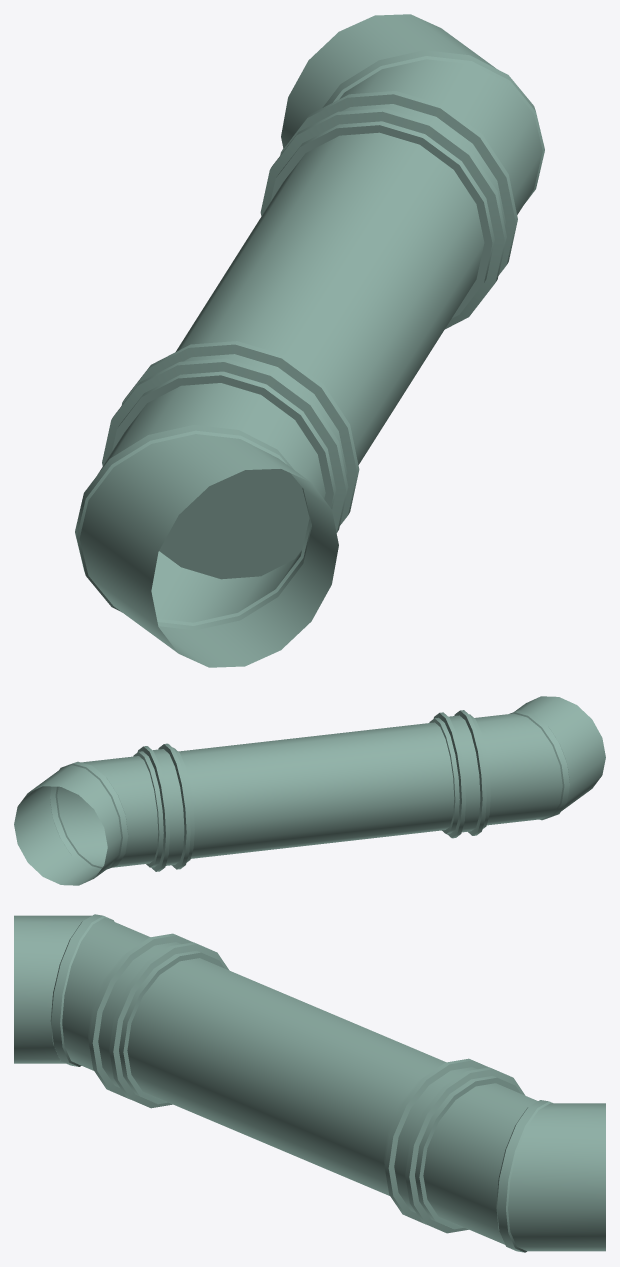
Rendered from PipeComplexLarge_B_14.fbx.
3 views of the same model, one above another, from view 1: azimuth 30°, elevation 25°; view 2: azimuth 150°, elevation 25°; view 3: azimuth 270°, elevation 25° (orthographic). The views are drawn at different scales.
Visible parts, largest first — view 1: PipeComplexLarge_B_14.001; view 2: PipeComplexLarge_B_14.001; view 3: PipeComplexLarge_B_14.001.
Part boxes in pixels (box(x1,y1,x2,y2)): PipeComplexLarge_B_14.001: box(75, 14, 544, 667); PipeComplexLarge_B_14.001: box(14, 696, 605, 885); PipeComplexLarge_B_14.001: box(14, 914, 605, 1252).
Size of the model in its own units: 0.803 by 0.2334 by 0.8.
